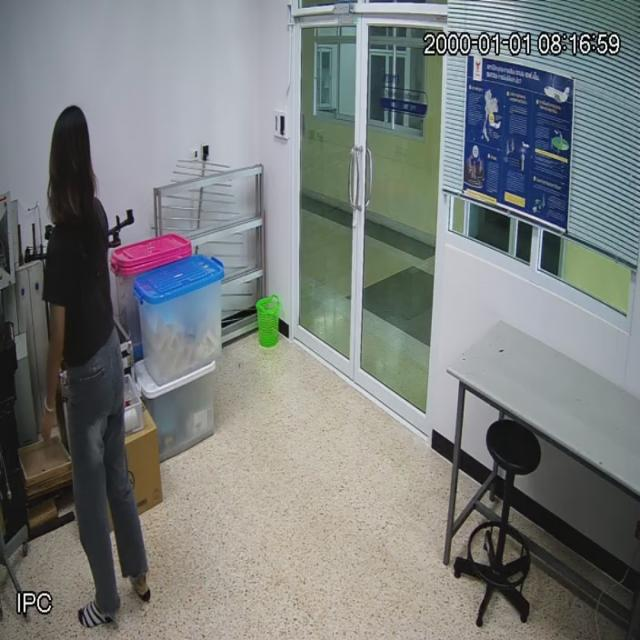normal: (30, 96, 158, 640)
